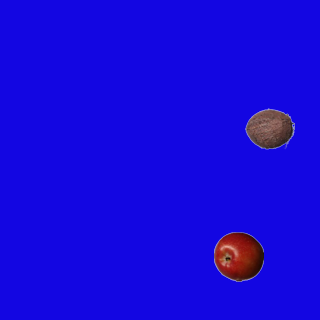Apple Braeburn: (213, 231, 263, 281)
Cocos: (244, 103, 294, 153)
